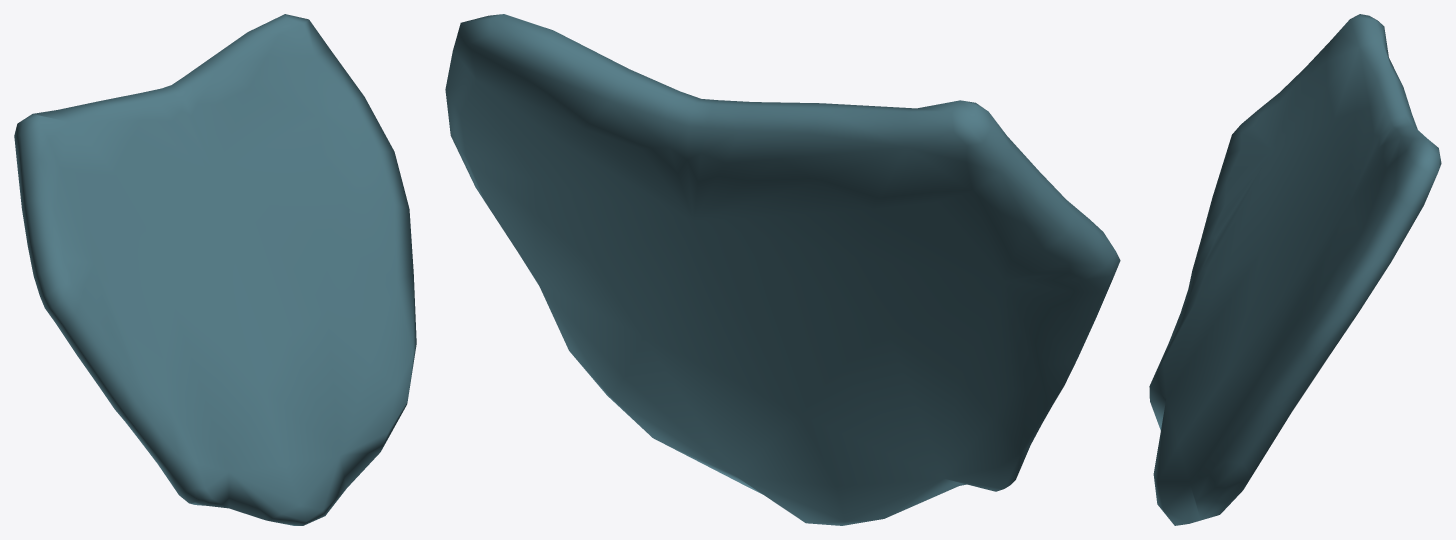
Rendered from Extensor_digitorum-proximal_phalanx-3d_finger.l_Generated_Mesh_.glb.
3 renders of one model, left to right at view 1: azimuth 30°, elevation 25°; view 2: azimuth 150°, elevation 25°; view 3: azimuth 270°, elevation 25°, orthographic. The views are drawn at different scales.
Parts seen in each view (by area): view 1: Extensor_digitorum-proximal_phalanx-3d_finger.l_Generated_Me; view 2: Extensor_digitorum-proximal_phalanx-3d_finger.l_Generated_Me; view 3: Extensor_digitorum-proximal_phalanx-3d_finger.l_Generated_Me.
Part boxes in pixels (<box>): Extensor_digitorum-proximal_phalanx-3d_finger.l_Generated_Me: <box>14,14,416,525</box>; Extensor_digitorum-proximal_phalanx-3d_finger.l_Generated_Me: <box>445,14,1120,525</box>; Extensor_digitorum-proximal_phalanx-3d_finger.l_Generated_Me: <box>1149,14,1441,525</box>.
Bounding box in the file's own units: 0.00559 × 0.00539 × 0.0034.
